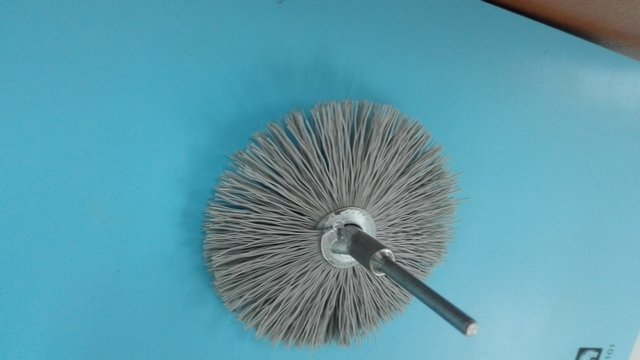TOOL: (154, 75, 504, 349), (198, 79, 465, 331), (262, 100, 507, 291)
